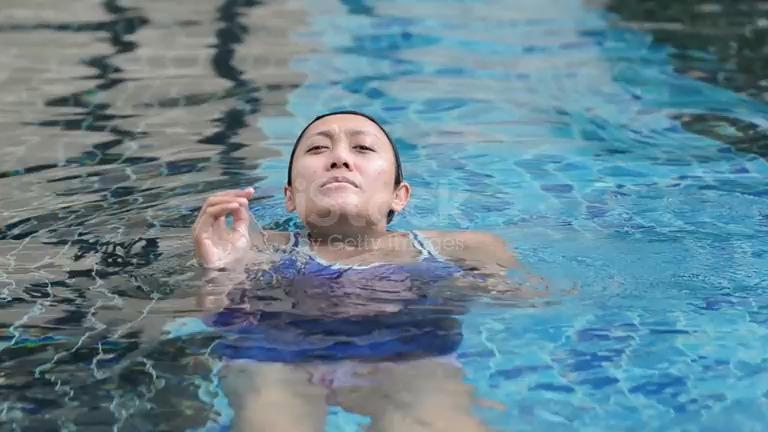Drowning: (103, 75, 556, 323)
